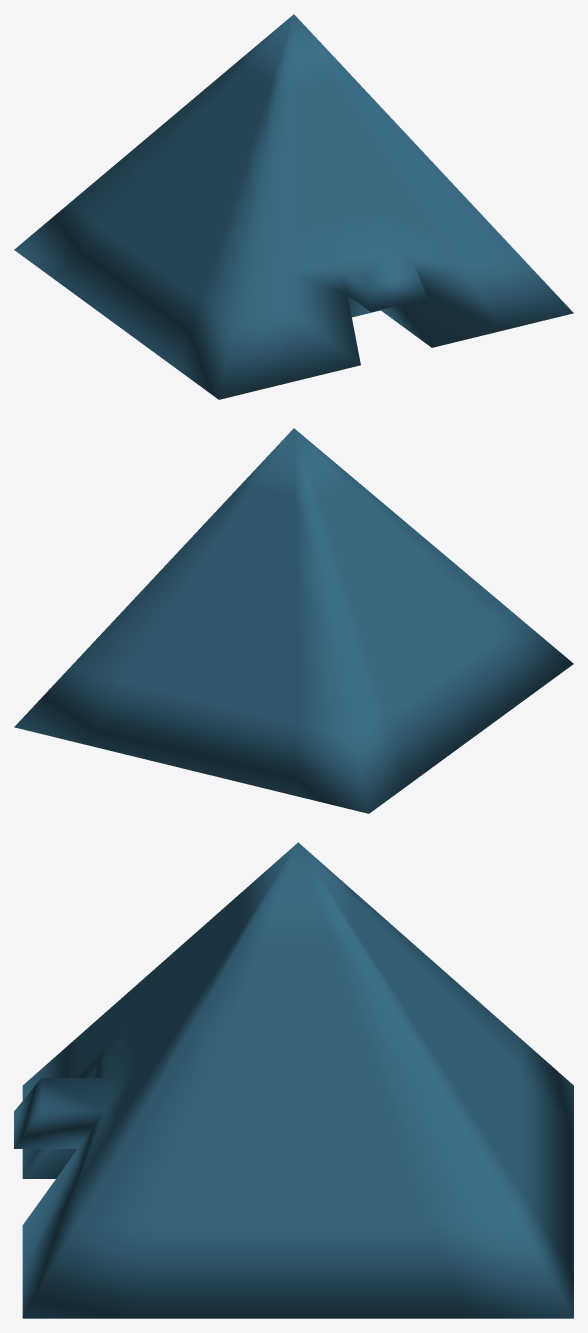
File: Gummy Pyramid.obj
3 views of the same model, one above another, from view 1: azimuth 30°, elevation 25°; view 2: azimuth 150°, elevation 25°; view 3: azimuth 270°, elevation 25° (orthographic). The views are drawn at different scales.
Visible parts, largest first — view 1: Gummy_Pyramid; view 2: Gummy_Pyramid; view 3: Gummy_Pyramid.
Part boxes in pixels (x1,y1,x2,y2): Gummy_Pyramid: (14, 14, 573, 399); Gummy_Pyramid: (14, 428, 573, 813); Gummy_Pyramid: (14, 842, 573, 1318).
Bounding box in the file's own units: 70 × 50.4 × 71.09.
